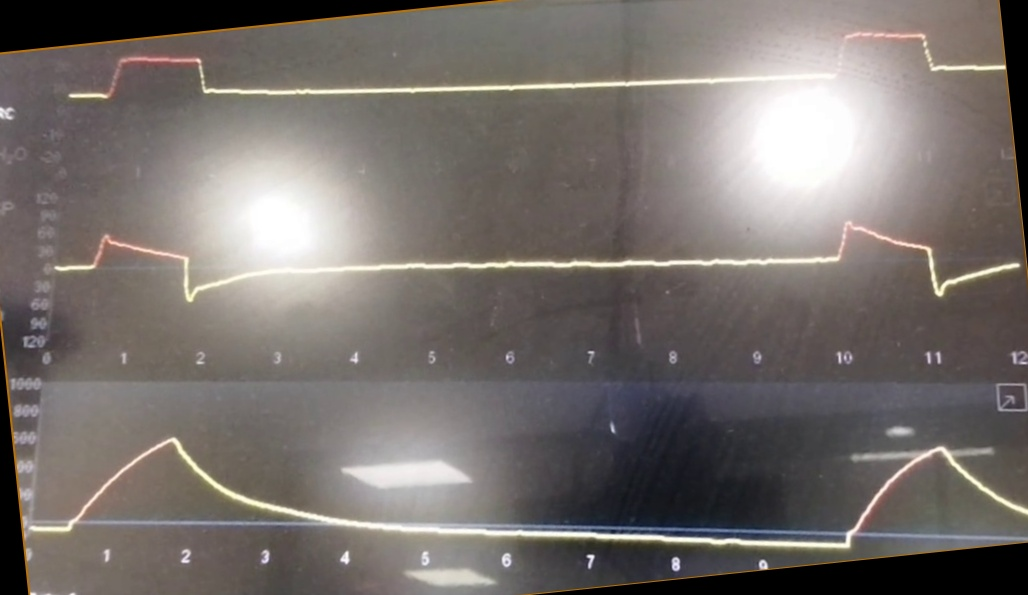Normal Flow: (56, 198, 1020, 335)
Normal Volume: (33, 423, 1024, 551)
